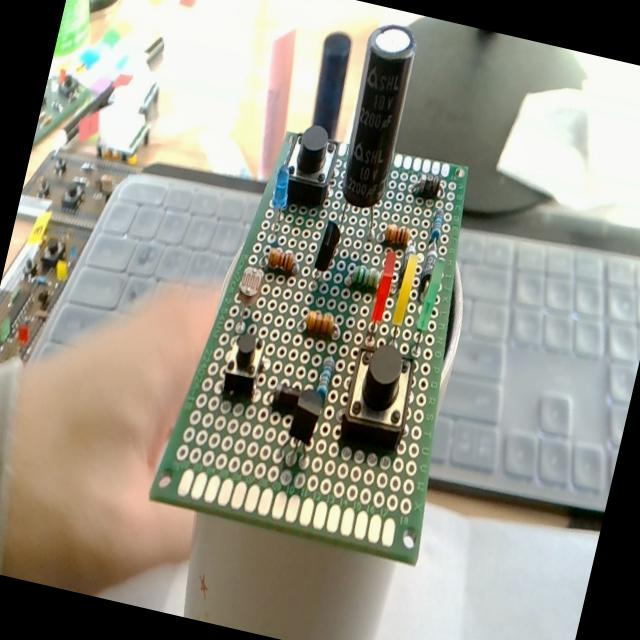Electrolytic capacitor: (322, 8, 428, 248)
cds: (225, 258, 268, 336)
diode: (405, 166, 456, 206), (263, 378, 305, 416)
led: (381, 250, 424, 352), (360, 245, 400, 348), (408, 256, 447, 360), (258, 163, 298, 246)
resistor: (290, 302, 346, 346), (256, 238, 308, 283), (312, 349, 341, 410), (339, 260, 383, 294), (424, 203, 451, 254), (376, 215, 414, 249)
switch: (331, 336, 427, 461), (274, 118, 346, 216), (216, 326, 274, 408)
transistor: (280, 386, 324, 469), (306, 218, 345, 288)
